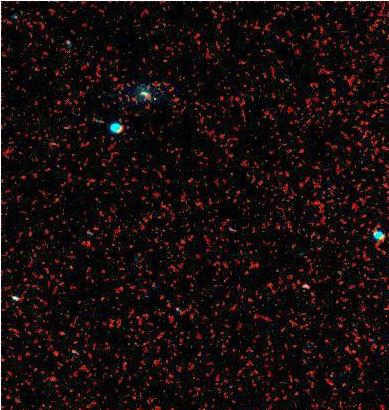star: (145, 84, 175, 114)
